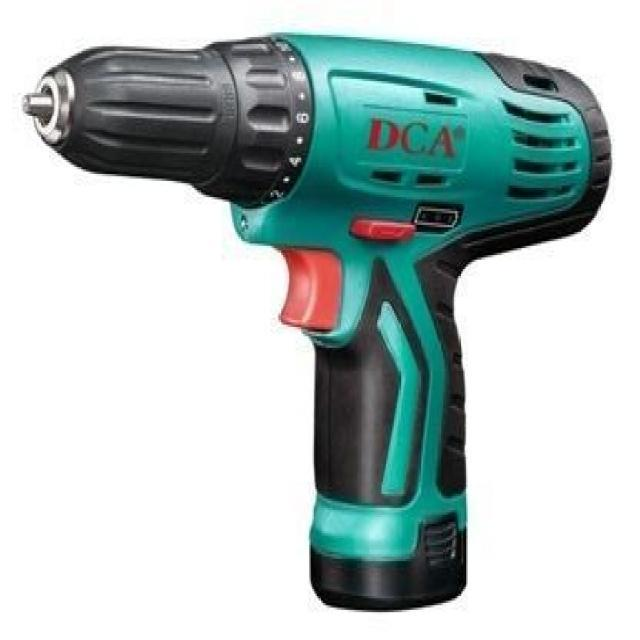drill: (22, 30, 612, 615)
